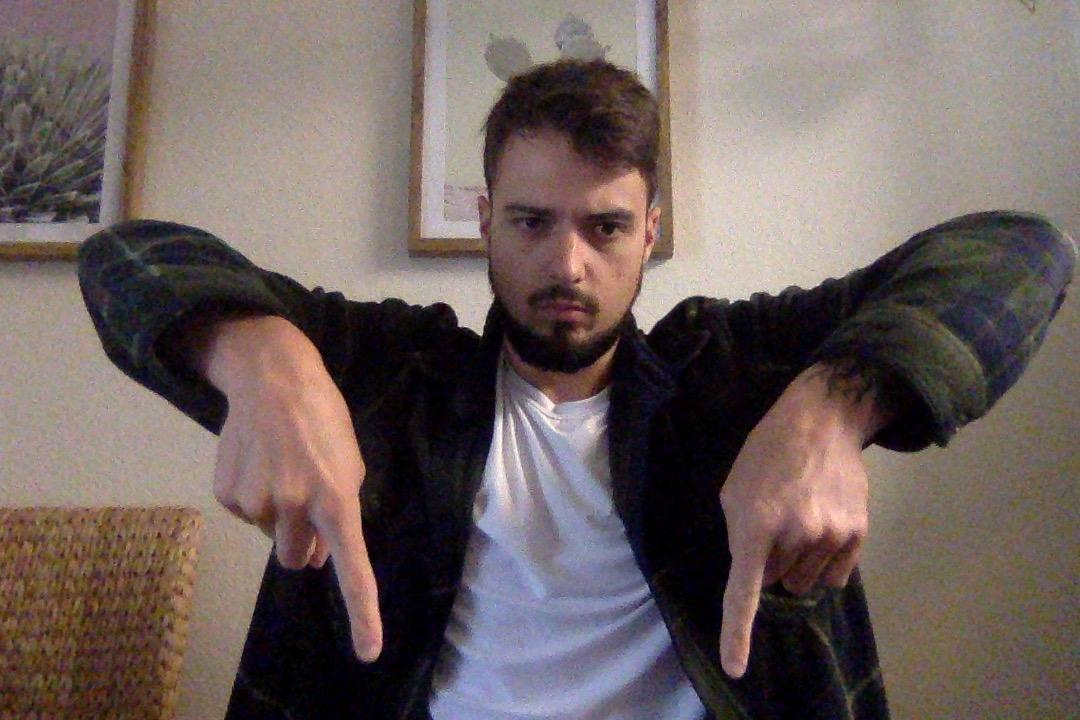Point-Down: (202, 351, 390, 671), (701, 363, 878, 686)
